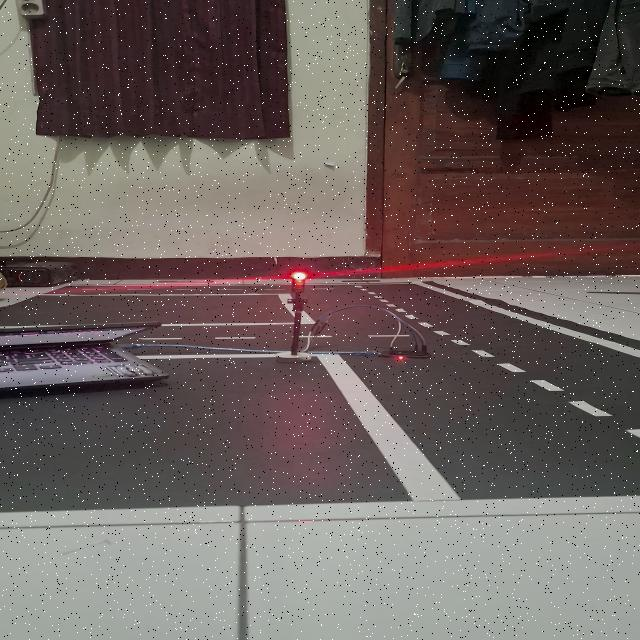Lampu Merah: (290, 270, 306, 294)
